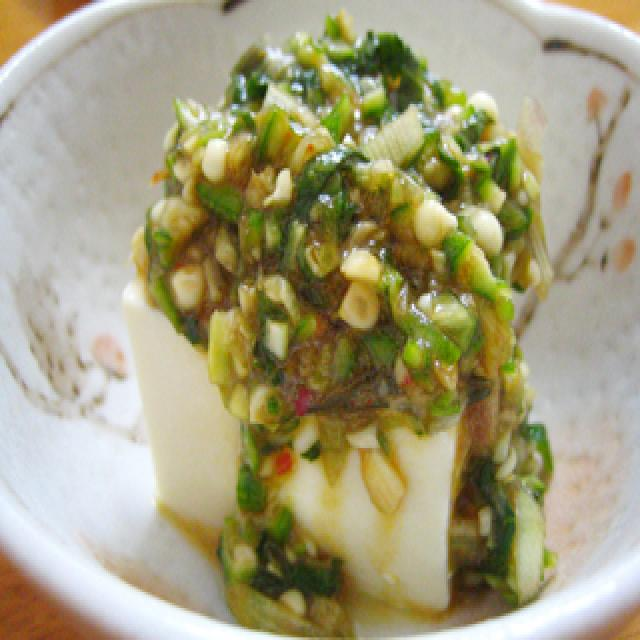豆腐料理: (120, 26, 580, 640)
